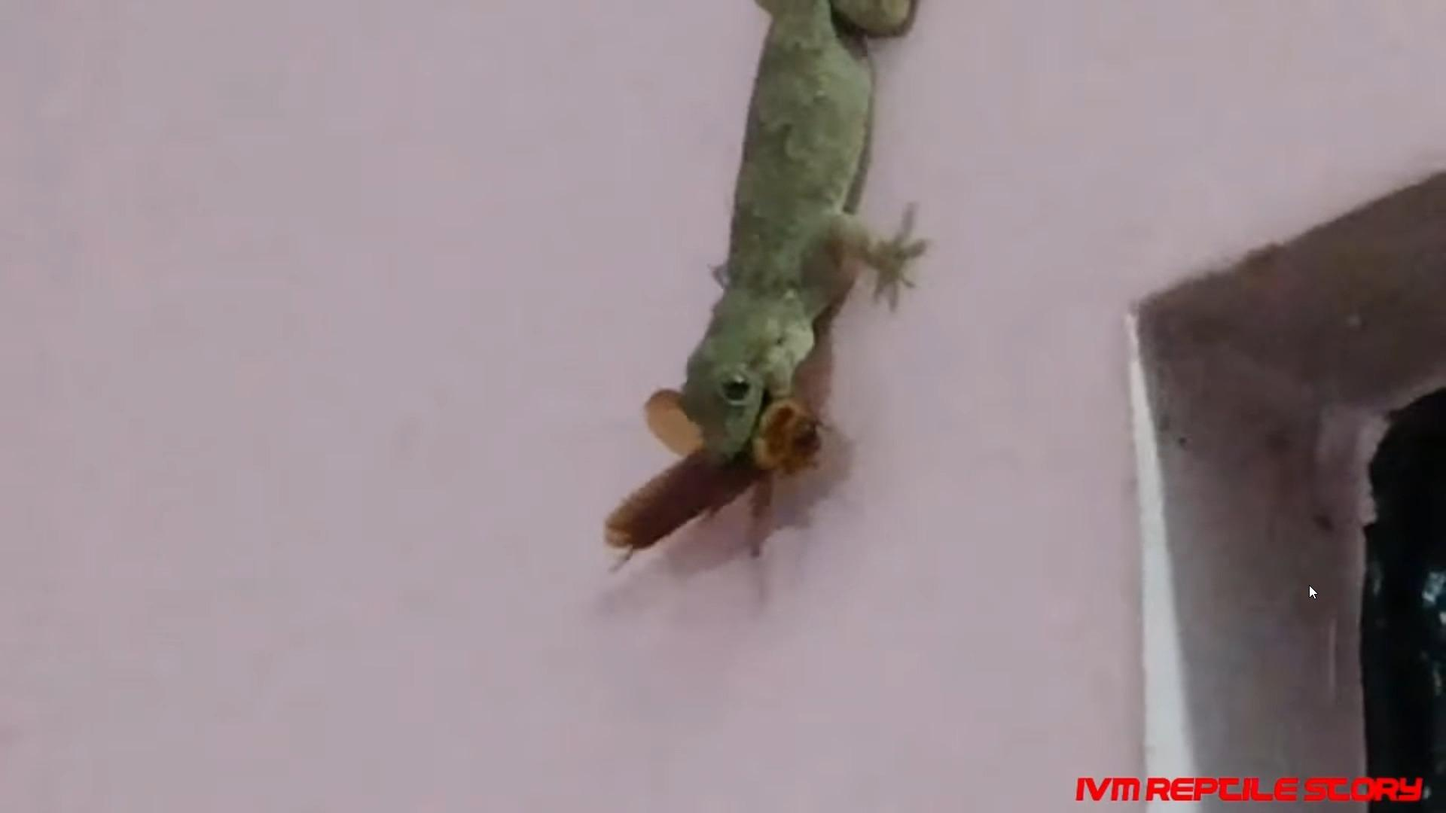cockroach: (601, 412, 836, 557)
lizard: (656, 31, 939, 450)
